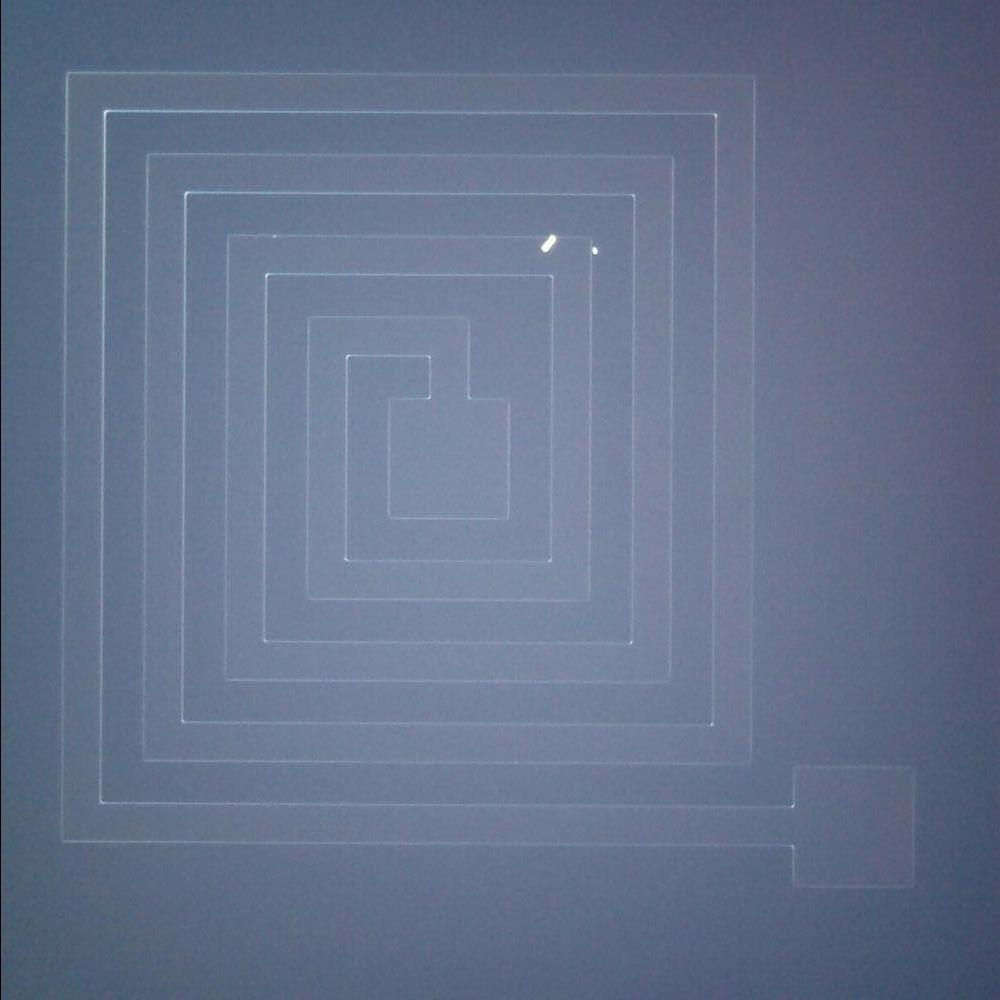dot: (582, 234, 608, 265)
spot: (536, 230, 563, 258)
